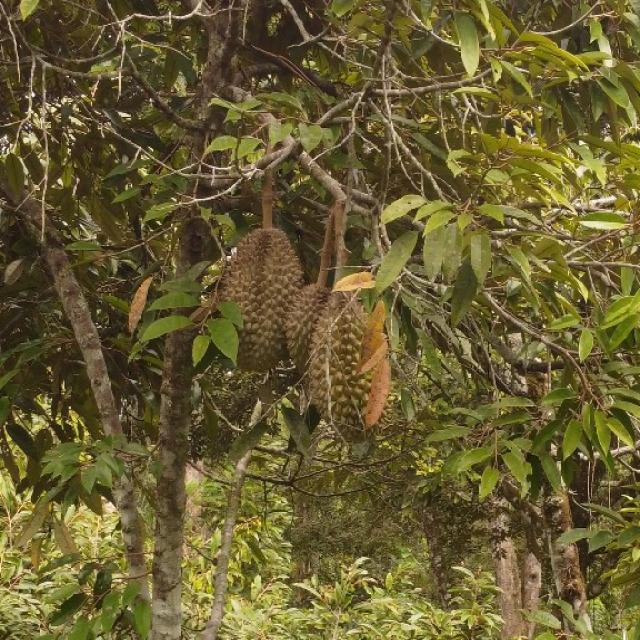mature: (306, 291, 392, 445), (218, 225, 304, 371)
